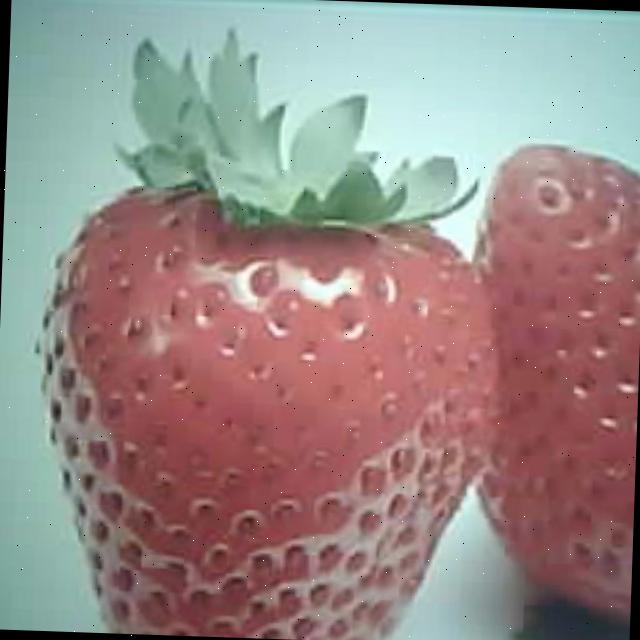strawberry: (28, 176, 504, 640)
